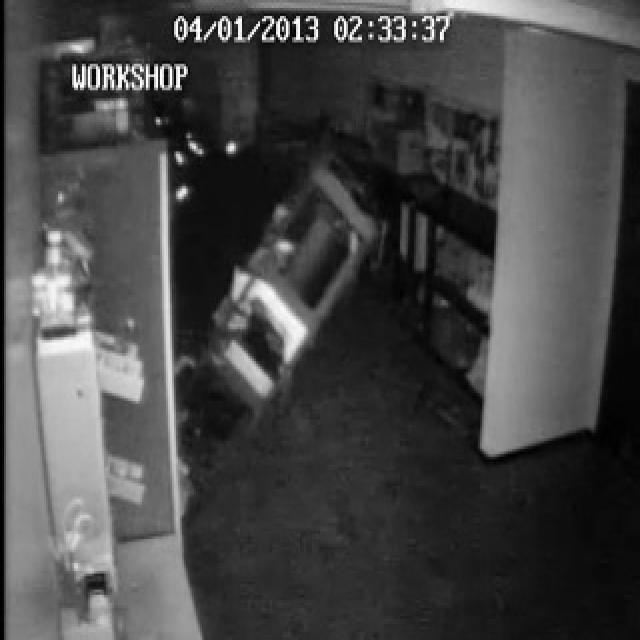burglary: (174, 173, 392, 486)
